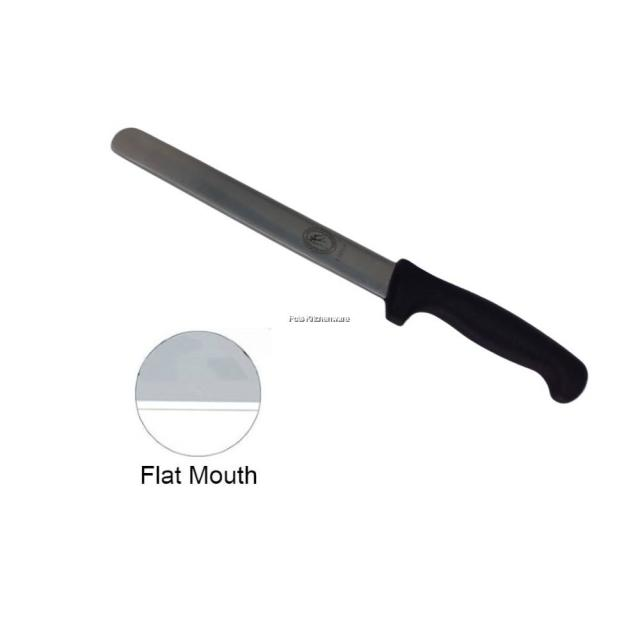Knife: (111, 128, 588, 404)
